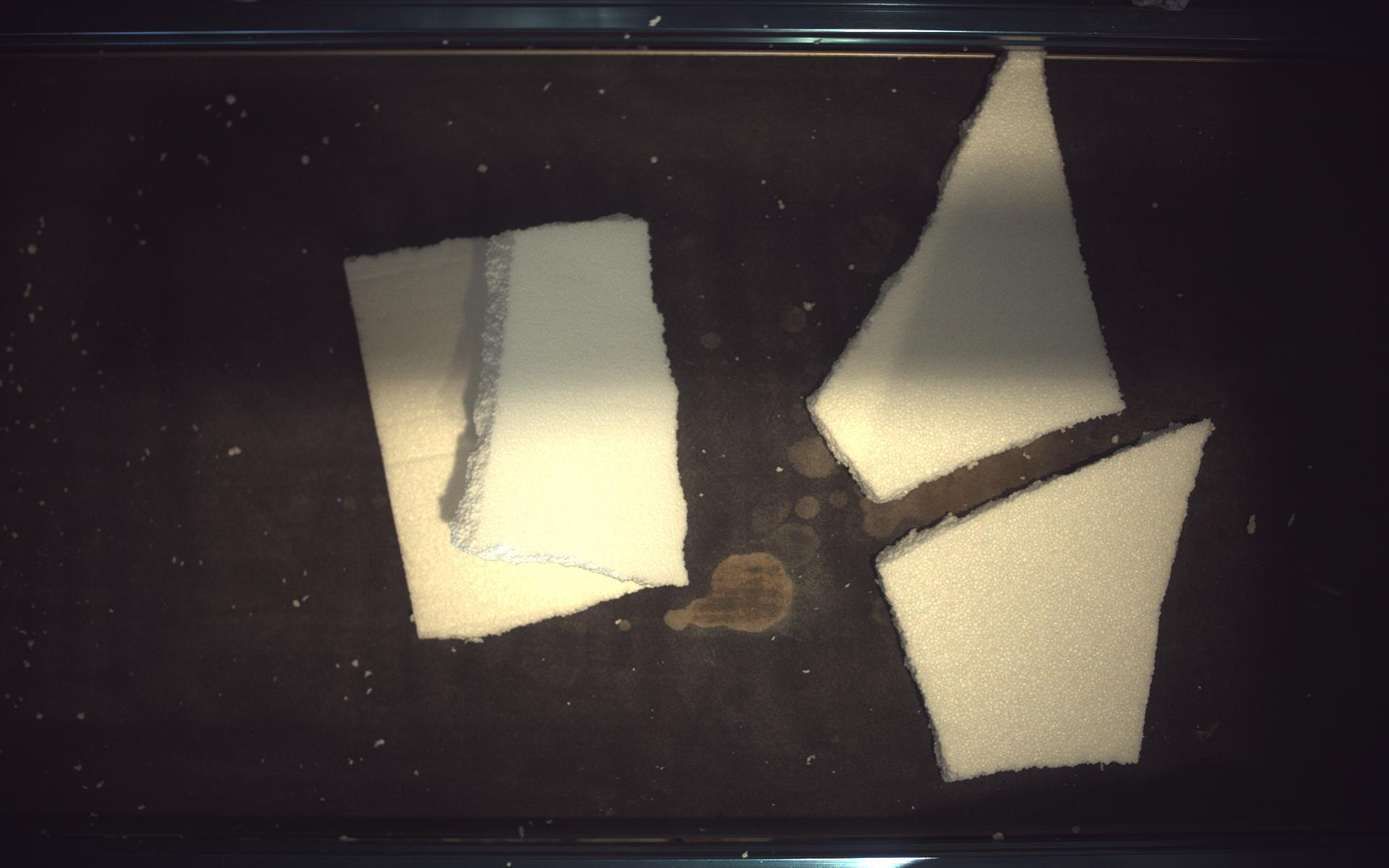foam: (810, 50, 1126, 503), (879, 420, 1215, 782), (345, 237, 642, 641), (453, 215, 689, 586)
